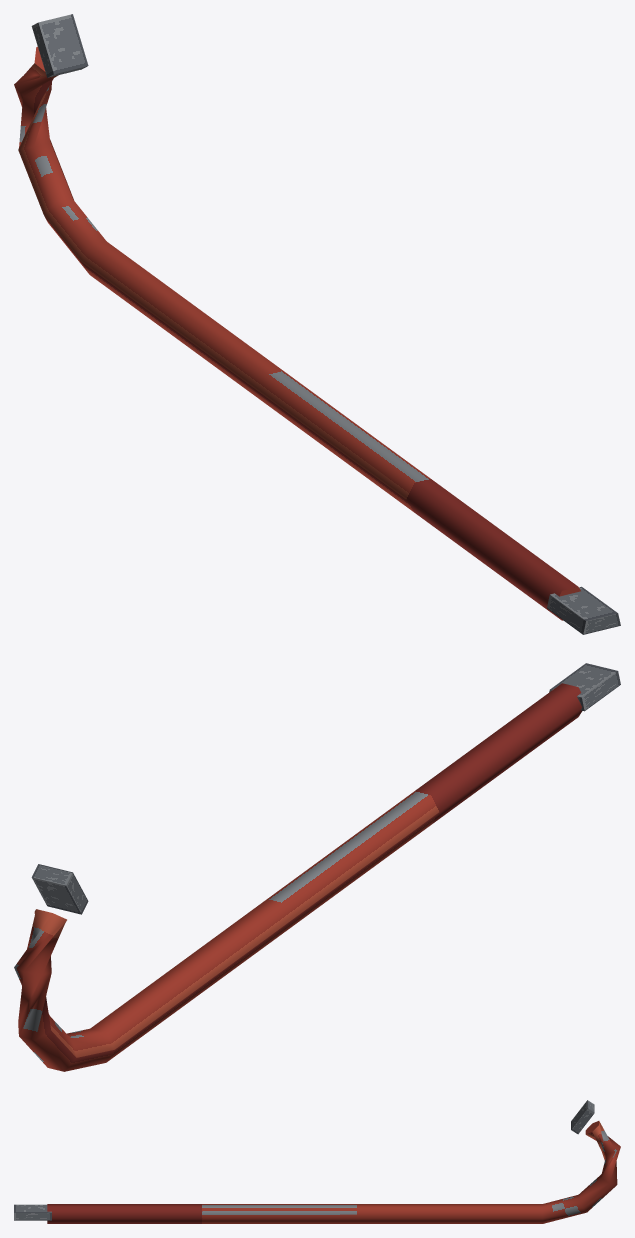
File: INV_Crowbar.glb
3 views of the same model, one above another, from view 1: azimuth 30°, elevation 25°; view 2: azimuth 150°, elevation 25°; view 3: azimuth 270°, elevation 25° (orthographic). The views are drawn at different scales.
Visible parts, largest first — view 1: INV_Crowbar_Mesh; view 2: INV_Crowbar_Mesh; view 3: INV_Crowbar_Mesh.
Boxes of the visible parts, left/top/right/bottom form: INV_Crowbar_Mesh: left=14, top=14, right=620, bottom=634; INV_Crowbar_Mesh: left=14, top=663, right=620, bottom=1071; INV_Crowbar_Mesh: left=14, top=1100, right=620, bottom=1223.
Size of what is drawn, in the model's own units: 0.024 by 0.136 by 0.6371.
Materials: 1 (1 with a texture image).
